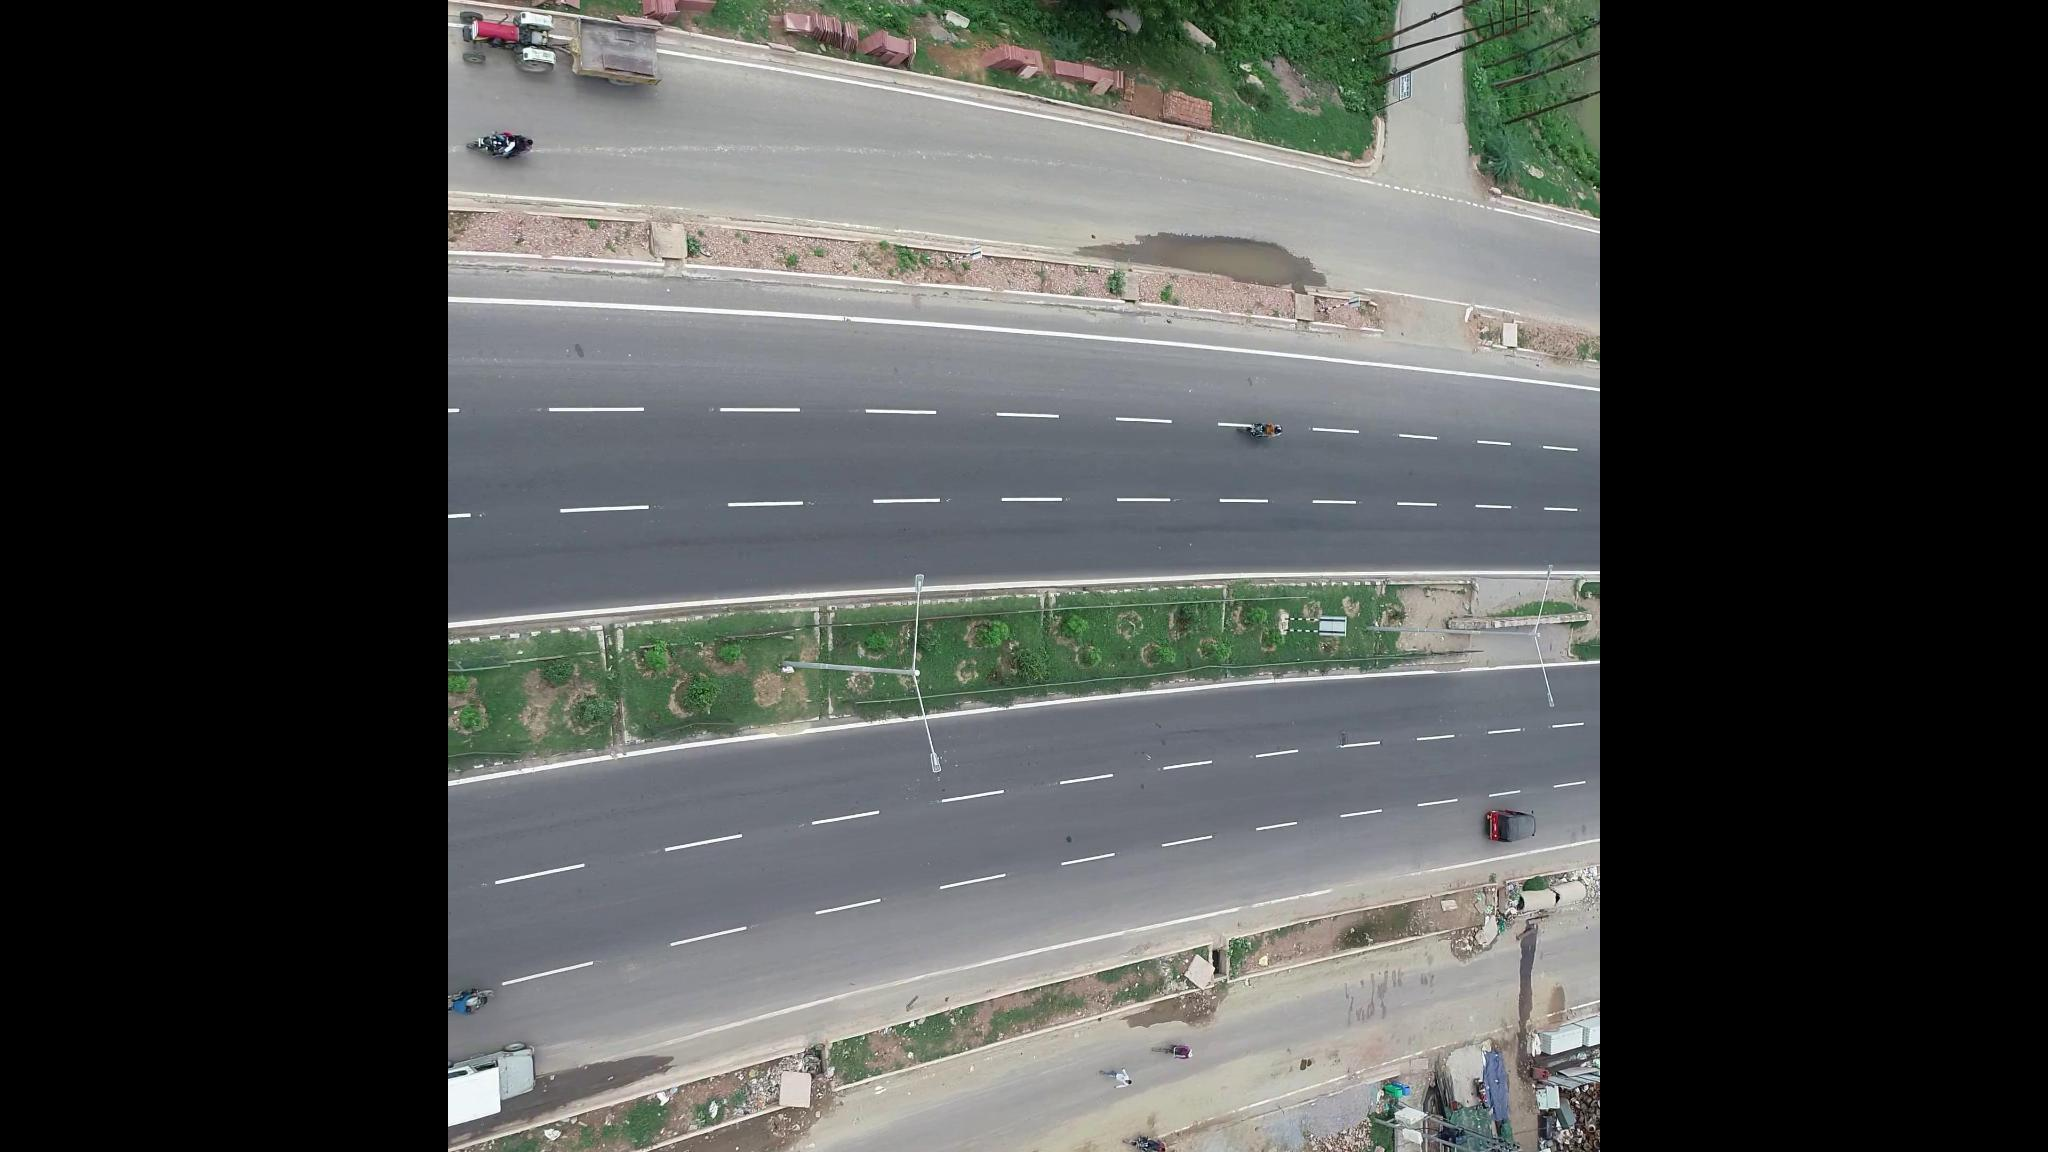Waterlogging: (1172, 233, 1325, 284)
